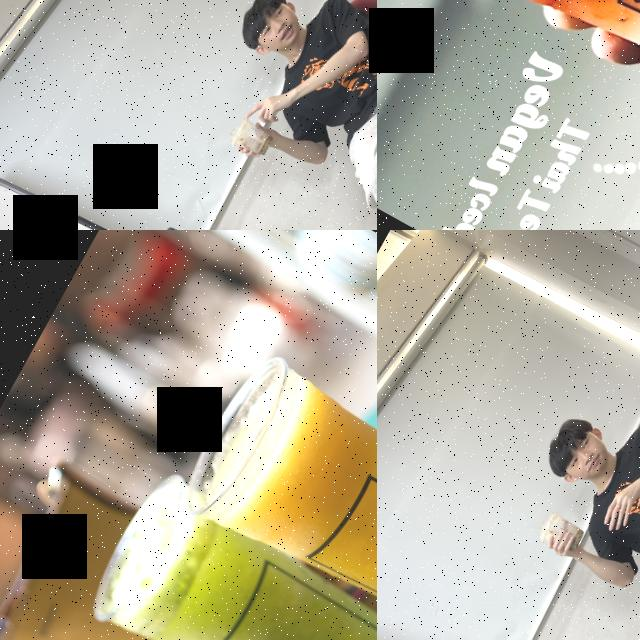cup: (170, 345, 377, 640), (78, 461, 377, 640), (377, 0, 640, 166), (534, 506, 590, 561), (228, 115, 278, 162)
